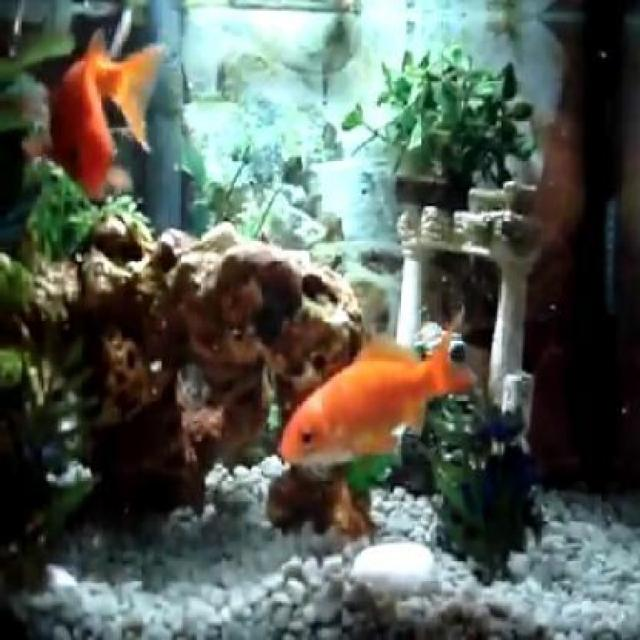GoldFish: (271, 308, 472, 469), (28, 28, 160, 201)
